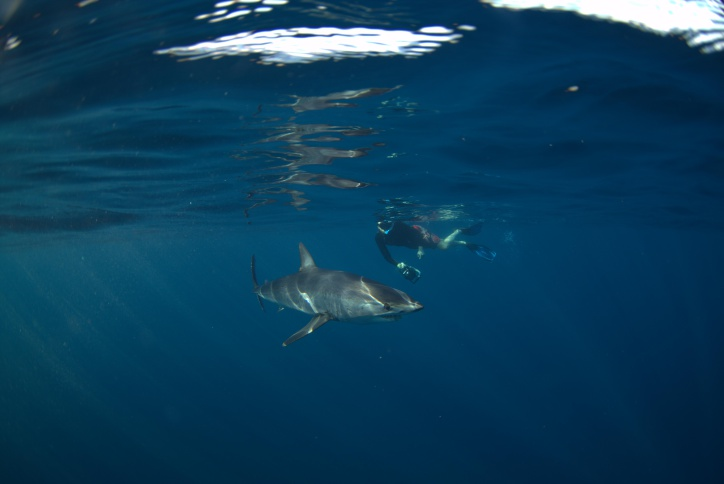Mako: (241, 239, 430, 357)
